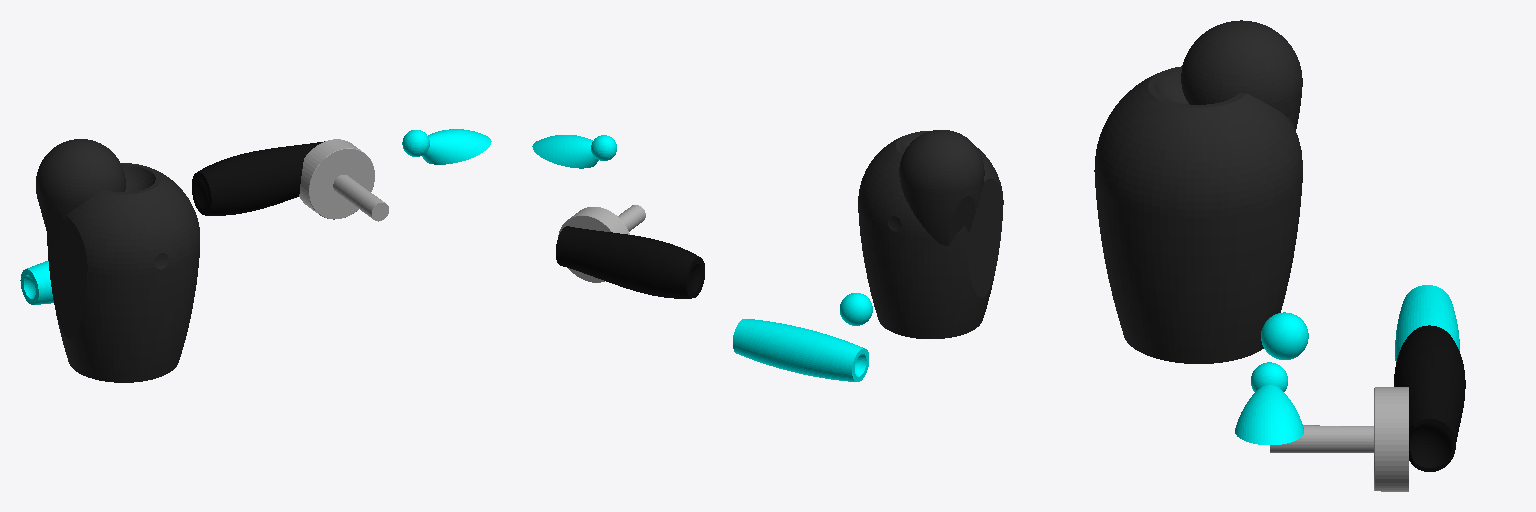
URDF robot description (human_2dof_planar_model):
<robot name="human_2dof_planar_model">
    <material name="body_color">
        <texture />
        <color rgba="0.1 0.1 0.1 0.6" />
    </material>
    <link name="trunk">
        <visual>
	    <origin xyz="0.0 -0.15 -0.25" rpy="1.57 0 3.14" /> 
            <geometry>
		        <mesh filename="package://meshes/new_meshes/torso_mesh.STL" scale="0.0075 0.0075 0.0075" />
            </geometry>
            <material name="body_color">
                <texture />
                <color rgba="0.2 0.2 0.2 0.2" />
            </material>
        </visual>
        <visual>
	        <origin xyz="-0.06 -0.09 0.125" rpy="1.57 0 3.14" /> 
            <geometry>
		        <mesh filename="package://meshes/new_meshes/head_mesh.STL" scale="0.0055 0.0055 0.0055" />
            </geometry>
            <material name="body_color">
                <texture />
                <color rgba="0.2 0.2 0.2 0.5" />
            </material>
        </visual>
    </link>
    <joint name="shoulder" type="revolute">
        <origin xyz="0.0 0.0 0.0" rpy="0 0 0" />
        <axis xyz="0 -1 0" />
        <parent link="trunk" />
        <child link="upperarm" />
        <limit effort="0" velocity="0" lower="-1.5708" upper="1.5708" />
    </joint>
    <link name="upperarm">
        <inertial>
            <mass value="1.8" />
            <origin xyz="0.118 -0.004 -0.007" rpy="0 -0 0" />
            <inertia ixx="0.011874" ixy="0.000445" ixz="0.000309" iyy="0.002422" iyz="4.9e-05" izz="0.012652" />
        </inertial>
        <visual>
	    <origin xyz="0.04 0.125 0.035" rpy="3.14 0 -1.57" /> 
            <geometry>
		        <mesh filename="package://meshes/new_meshes/shoulder_mesh.STL" scale="0.004 0.004 0.004" />
            </geometry>
            <material name="body_color">
                <texture />
                <color rgba="0 1 1 0.5" />
            </material>
        </visual>
        <visual>
            <origin xyz="0.32 0.18 0.06" rpy="3.14 0 -1.57" />
            <geometry>
                <mesh filename="package://meshes/new_meshes/upperarm_mesh.STL" scale="0.006 0.0068 0.0068" />
            </geometry>
            <material name="body_color" />
        </visual>
    </link>
    <joint name="elbow" type="revolute">
        <origin xyz="0.262 0.0 0.0" rpy="0 -0 0" />
        <axis xyz="0 -1 0" />
        <parent link="upperarm" />
        <child link="lowerarm" />
        <limit effort="0" velocity="0" lower="0" upper="2.74889" />
    </joint>
    <link name="lowerarm">
        <inertial>
            <mass value="1.28" />
            <origin xyz="0.0 -0.000 0.000" rpy="0 -0 0" />
            <inertia ixx="0.007479" ixy="8.6e-05" ixz="3.8e-05" iyy="0.001154" iyz="-0.000611" izz="0.006954" />
        </inertial>
        <visual>
	    <origin xyz="-0.155 -0.028 -0.035" rpy="0 0 0" /> 
            <geometry>
		        <mesh filename="package://meshes/new_meshes/elbow_mesh.STL" scale="0.0055 0.0055 0.0055" />
            </geometry>
            <material name="body_color">
                <texture />
                <color rgba="0 1 1 0.5" />
            </material>
        </visual>
        <visual>
            <origin xyz="-0.0 0.18 -0.05" rpy="0 0 -1.57" /> 
            <geometry>
                <mesh filename="package://meshes/new_meshes/lowerarm_mesh.STL" scale="0.0060 0.0070 0.0060" />
            </geometry>
            <material name="body_color">
                <texture />
                <color rgba="0 1 1 0.5" />
            </material>
        </visual>
    </link>
    
    <joint name="hand_fixed" type="fixed">
        <origin xyz="0.273 0.0 0.0" rpy="1.57 -0 0" />
        <axis xyz="0 0 1" />
        <parent link="lowerarm" />
        <child link="hand" /> 
        <limit effort="0" velocity="0" lower="-1.5708" upper="1.5708" />
    </joint>
   
    <link name="hand">
        <inertial>
            <mass value="3.45" />
            <origin xyz="0.015 -0.154 0.014" rpy="0 -0 0" />
            <inertia ixx="0.005608" ixy="0.000729" ixz="0.000339" iyy="0.002176" iyz="-0.000603" izz="0.004726" />
        </inertial>
        <visual>
            <origin xyz="0.185 0.18 0.05" rpy="3.14 0 -1.57" /> 
            <geometry>
		        <mesh filename="package://meshes/new_meshes/hand_mesh.STL" scale="0.0060 0.0060 0.0060" />
            </geometry>
            <material name="body_color">
                <texture />
                <color rgba="0 1 1 0.5" />
            </material>
        </visual>
        <visual>
            <origin xyz="0.105 0.05 0.05" rpy="0 0 0" />
            <geometry>
                <mesh filename="package://meshes/new_meshes/cylinder_mesh.STL" scale="0.01 0.01 0.01" />
            </geometry>
            <material name="body_color">
                <color rgba="0.7 0.7 0.7 1.0" />
            </material>
        </visual>
    </link>
    
    <!-- <joint name="tool_fixed" type="fixed">
        <origin xyz="0.1 0.05 0.0025" rpy="0 0 0" />
        <parent link="hand" />
        <child link="tool" />
    </joint>
    <link name="tool">
        <inertial>
            <mass value="3.0" />
            <origin xyz="0.0 0.0 0.0" rpy="0 0 0" />
            <inertia ixx="0.001" ixy="0.0" ixz="0.0" iyy="0.001" iyz="0.0" izz="0.001" />
        </inertial>
        <visual>
            <origin xyz="0.0 0.0 0.05" rpy="0 0 0" />
            <geometry>
                <mesh filename="package://meshes/new_meshes/cylinder_mesh.STL" scale="0.01 0.01 0.01" />
            </geometry>
            <material name="body_color">
                <color rgba="0.7 0.7 0.7 1.0" />
            </material>
        </visual>
    </link> -->

</robot>

--- Render facts (derived) ---
3 views of the same robot in one strip: view 1: azimuth 30°, elevation 25°; view 2: azimuth 150°, elevation 25°; view 3: azimuth 270°, elevation 25° (orthographic).
Robot: human_2dof_planar_model — 4 links, 3 joints (2 revolute, 1 fixed); root link trunk; default pose: every joint at zero.
Visible links, largest first — view 1: trunk, hand, upperarm, lowerarm; view 2: trunk, upperarm, lowerarm, hand; view 3: trunk, hand, upperarm, lowerarm.
Link boxes in pixels (x1,y1,x2,y2): trunk: [36, 139, 199, 382]; hand: [299, 129, 491, 221]; upperarm: [192, 141, 324, 215]; lowerarm: [20, 261, 53, 304]; trunk: [858, 130, 1003, 338]; upperarm: [556, 226, 704, 298]; lowerarm: [733, 293, 872, 381]; hand: [532, 135, 645, 282]; trunk: [1094, 20, 1302, 363]; hand: [1235, 362, 1408, 491]; upperarm: [1394, 325, 1465, 471]; lowerarm: [1261, 285, 1459, 361].
Size in the robot's own frame: 1.03 by 0.5338 by 0.475 metres.
7 mesh visuals loaded from 8 distinct referenced files (7 binary STL); not drawn: 1 (reference not matched to a file when rendering).
